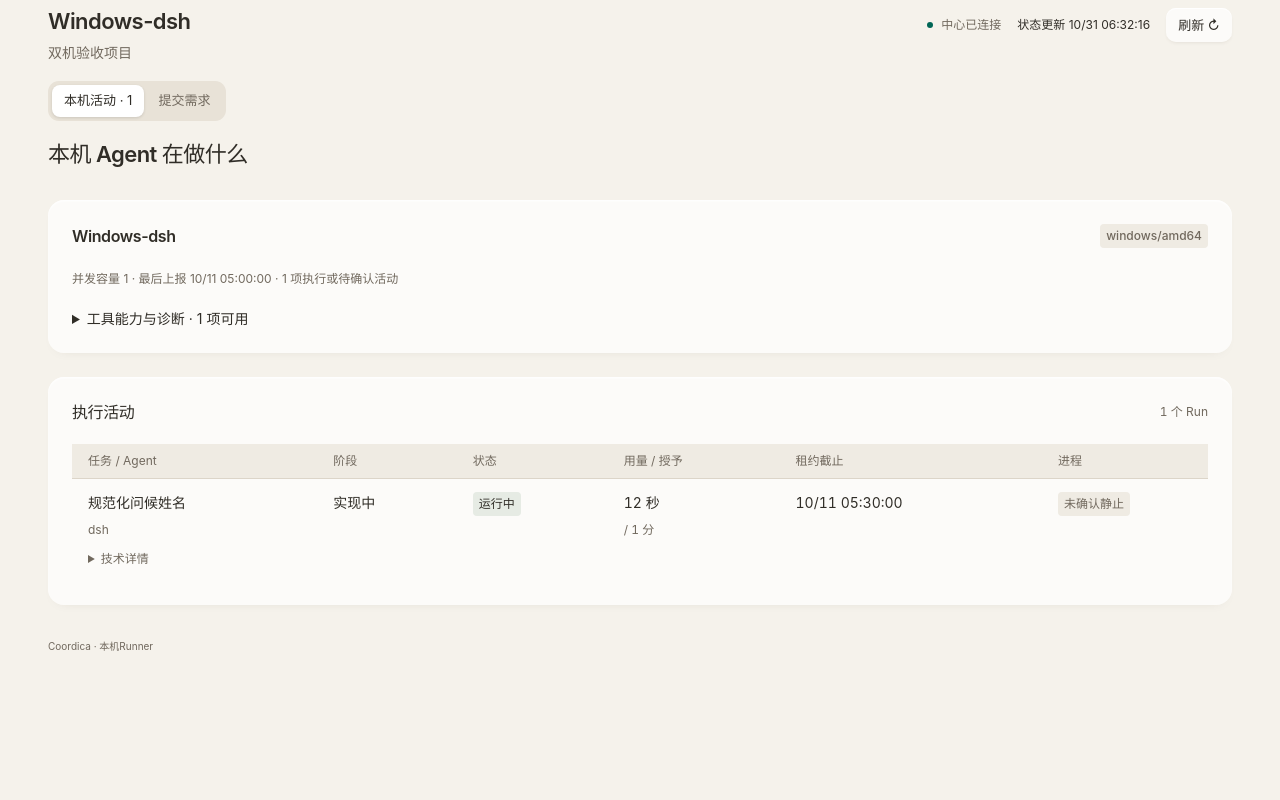
Test case: local Runner workbench › keeps local navigation in the page and exposes execution IDs only in technical details
Check: the text "规范化问候姓名" is shown, box top-left (88, 494), bottom-right (186, 511)
Click the heading "技术详情" at x=125, y=558, box top-left (101, 551), bottom-right (149, 566)
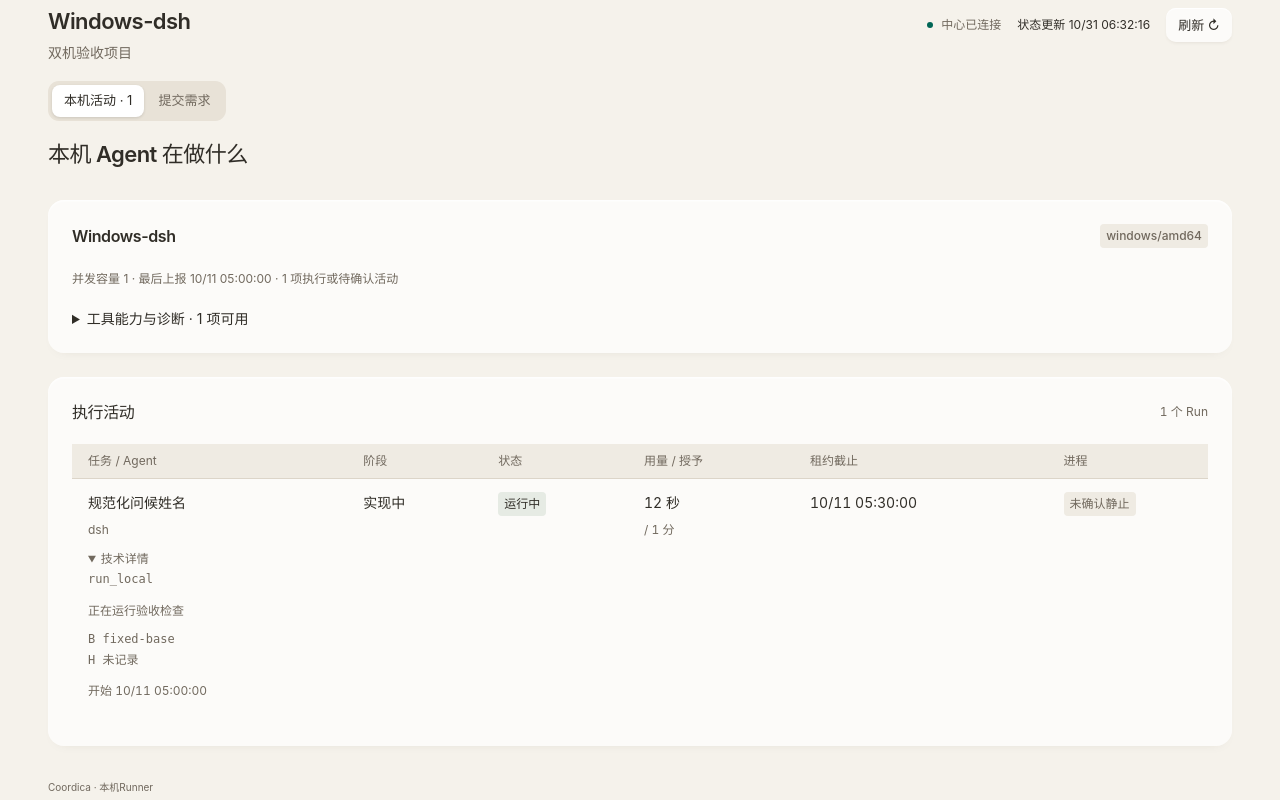
Click the button "提交需求" at x=184, y=101, box top-left (146, 85), bottom-right (222, 117)
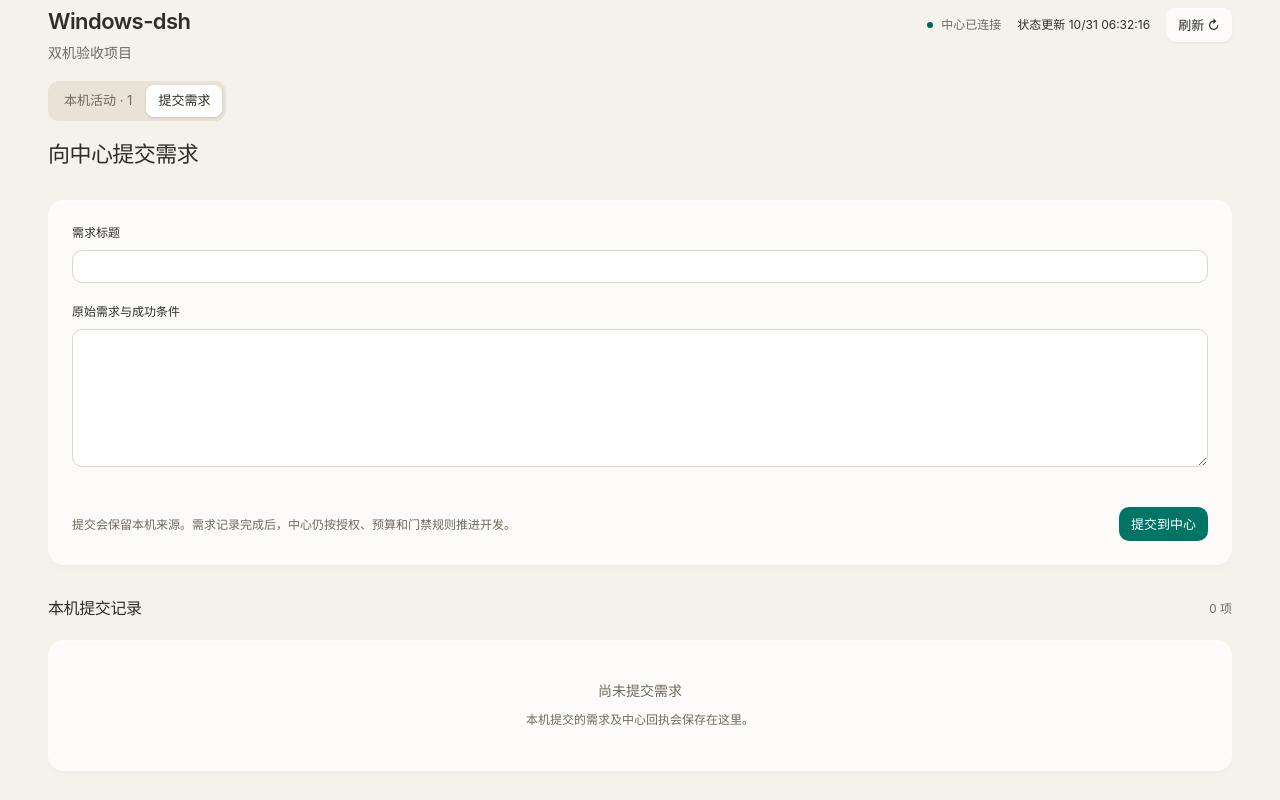
Check: the field labelled "需求标题" is shown, box top-left (72, 250), bottom-right (1208, 283)
Click the button "本机活动 · 1" at x=98, y=101, box top-left (52, 85), bottom-right (144, 117)
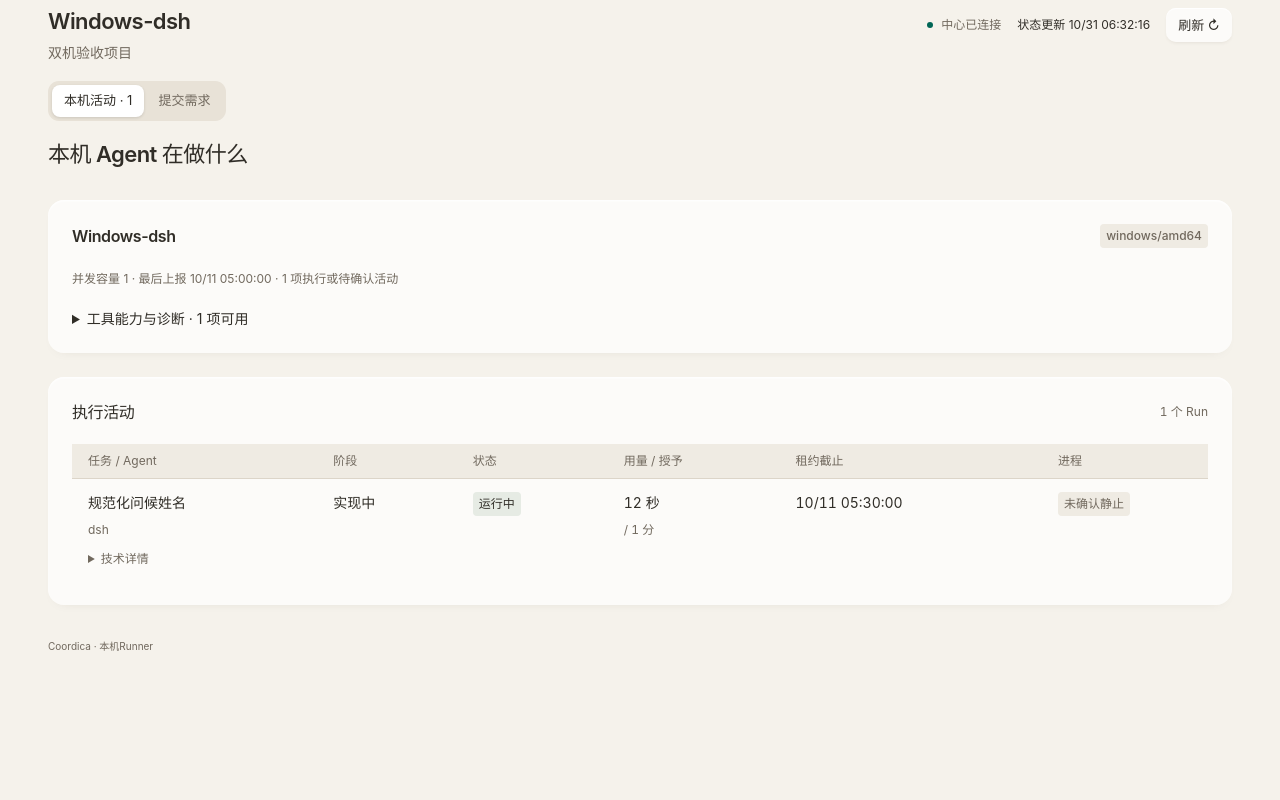
Check: the text "规范化问候姓名" is shown, box top-left (88, 494), bottom-right (186, 511)
